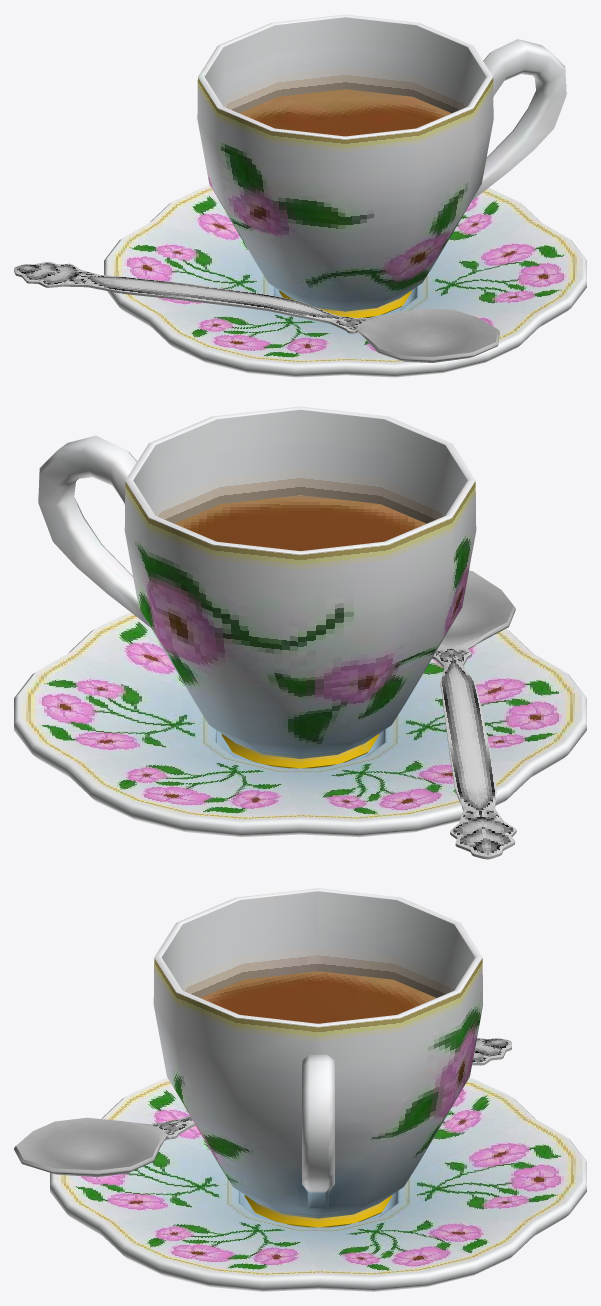
File: realteacup.glb
The picture shows the model from 3 angles, top to bottom: view 1: azimuth 30°, elevation 25°; view 2: azimuth 150°, elevation 25°; view 3: azimuth 270°, elevation 25°; orthographic projection. The views are drawn at different scales.
Parts seen in each view (by area): view 1: SM_Cup, SM_Saucer, SM_Spoon; view 2: SM_Cup, SM_Saucer, SM_Spoon; view 3: SM_Cup, SM_Saucer, SM_Spoon.
Part boxes in pixels (x1,y1,x2,y2): SM_Cup: (197,14,566,318); SM_Saucer: (104,185,586,377); SM_Spoon: (14,261,499,362); SM_Cup: (38,406,476,768); SM_Saucer: (14,612,586,837); SM_Spoon: (432,570,516,859); SM_Cup: (153,888,482,1227); SM_Saucer: (50,1078,586,1291); SM_Spoon: (14,1038,511,1176).
Size of the model in its own units: 0.117 by 0.0547 by 0.1119.
3 materials, 3 textured.
